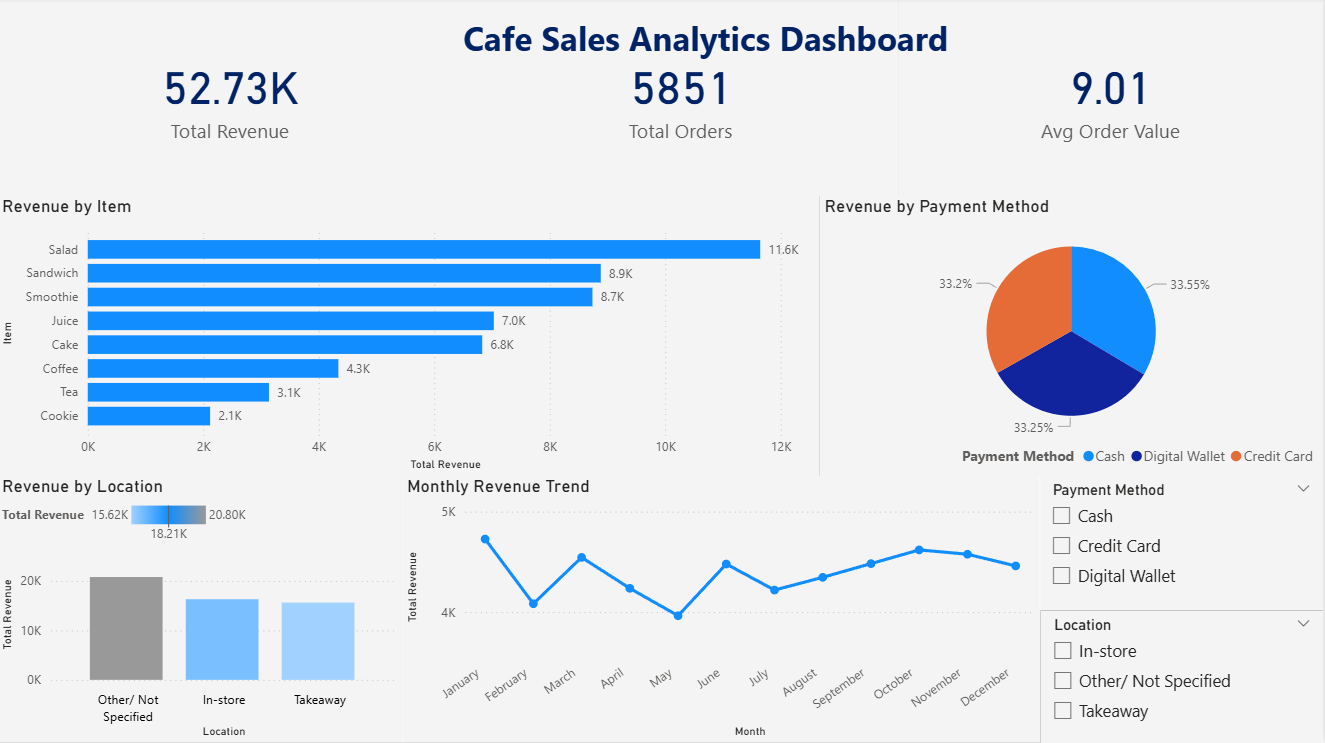

The dashboard page shown, as its layout file describes it:
{"tool":"powerbi","page":{"name":"Page 1","canvas":[1280,720],"ordinal":0},"visuals":[{"type":"card","fields":{"Values":["cleaned_cafe_sales.Total Revenue"]},"box":[0,0,450.1,192.1],"z":1000},{"type":"card","fields":{"Values":["cleaned_cafe_sales.Total Orders"]},"box":[450.1,0,419.9,192.1],"z":2000},{"type":"card","fields":{"Values":["cleaned_cafe_sales.Avg Order Value"]},"box":[869.8,0,410.2,191.8],"z":3000},{"type":"clusteredBarChart","title":"Revenue by Item","fields":{"Category":["cleaned_cafe_sales.Item"],"Y":["cleaned_cafe_sales.Total Revenue"]},"box":[0,191.8,793.8,270.2],"z":4000},{"type":"pieChart","title":"Revenue by Payment Method","fields":{"Y":["cleaned_cafe_sales.Total Revenue"],"Category":["cleaned_cafe_sales.Payment Method"]},"box":[793.8,191.8,486.2,270.2],"z":5000},{"type":"clusteredColumnChart","title":"Revenue by Location","fields":{"Y":["cleaned_cafe_sales.Total Revenue"],"Category":["cleaned_cafe_sales.Location"]},"box":[0,462.4,391.1,258],"z":6000},{"type":"lineChart","title":"Monthly Revenue Trend","fields":{"Category":["cleaned_cafe_sales.Transaction Date.Variation.Date Hierarchy.Month","cleaned_cafe_sales.Transaction Date.Variation.Date Hierarchy.Day"],"Y":["cleaned_cafe_sales.Total Revenue"]},"box":[391.1,462.4,616.1,258],"z":7000},{"type":"slicer","fields":{"Values":["cleaned_cafe_sales.Payment Method"]},"box":[1006.4,462.2,273.9,129.6],"z":8000},{"type":"slicer","fields":{"Values":["cleaned_cafe_sales.Location"]},"box":[1007.6,591.9,272.7,128.4],"z":9000},{"type":"textbox","box":[301.6,13.3,764.9,55.5],"z":10000}]}

Visuals, with their boxes in screenshot pixels (x1, y1, x2, y2), scaled from the page's 1280x720 canvas onto the 1325x743 screenshot:
card - cleaned_cafe_sales.Total Revenue: (x1=0, y1=0, x2=466, y2=198)
card - cleaned_cafe_sales.Total Orders: (x1=466, y1=0, x2=901, y2=198)
card - cleaned_cafe_sales.Avg Order Value: (x1=900, y1=0, x2=1324, y2=198)
"Revenue by Item" clusteredBarChart: (x1=0, y1=198, x2=822, y2=477)
"Revenue by Payment Method" pieChart: (x1=822, y1=198, x2=1324, y2=477)
"Revenue by Location" clusteredColumnChart: (x1=0, y1=477, x2=405, y2=742)
"Monthly Revenue Trend" lineChart: (x1=405, y1=477, x2=1043, y2=742)
slicer - cleaned_cafe_sales.Payment Method: (x1=1042, y1=477, x2=1324, y2=611)
slicer - cleaned_cafe_sales.Location: (x1=1043, y1=611, x2=1324, y2=742)
textbox: (x1=312, y1=14, x2=1104, y2=71)
